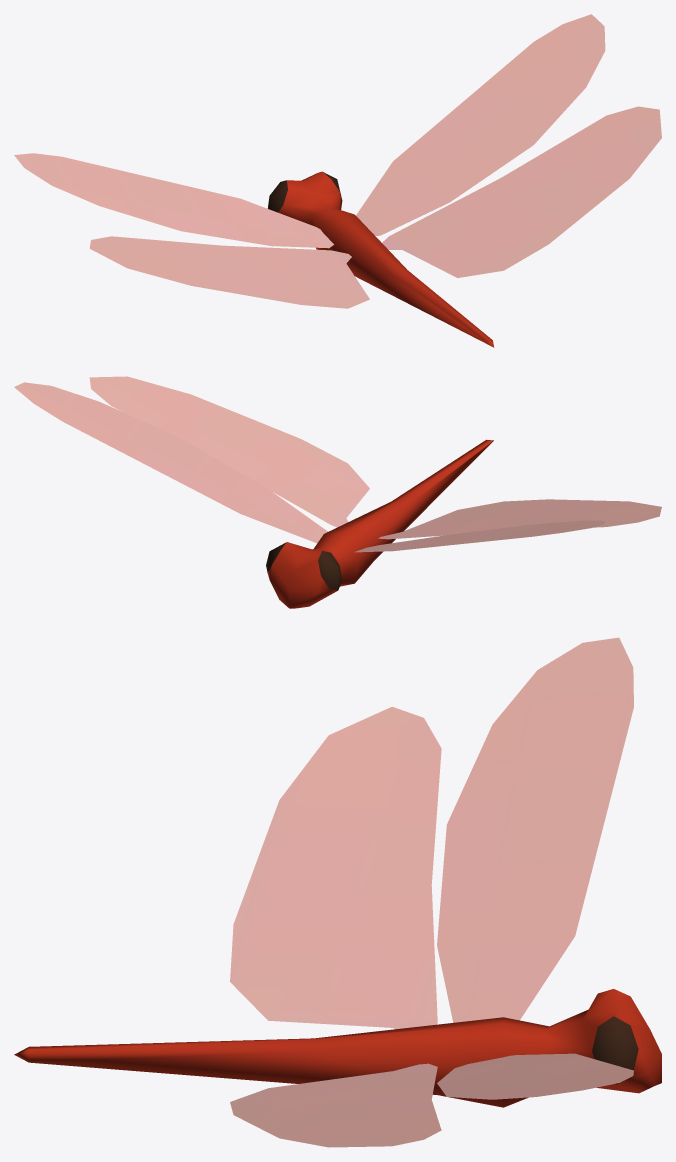
Rendered from animals-red-dragonfly-167.glb.
3 views of the same model, one above another, from view 1: azimuth 30°, elevation 25°; view 2: azimuth 150°, elevation 25°; view 3: azimuth 270°, elevation 25° (orthographic). The views are drawn at different scales.
Parts seen in each view (by area): view 1: Dragonfly_2; view 2: Dragonfly_2; view 3: Dragonfly_2.
Boxes of the visible parts, bbox=[...] form: Dragonfly_2: bbox=[14, 14, 661, 347]; Dragonfly_2: bbox=[14, 376, 661, 608]; Dragonfly_2: bbox=[14, 637, 661, 1147].
Size of the model in its own units: 0.2399 by 0.0616 by 0.1468.
Materials: 1 (1 with a texture image).
